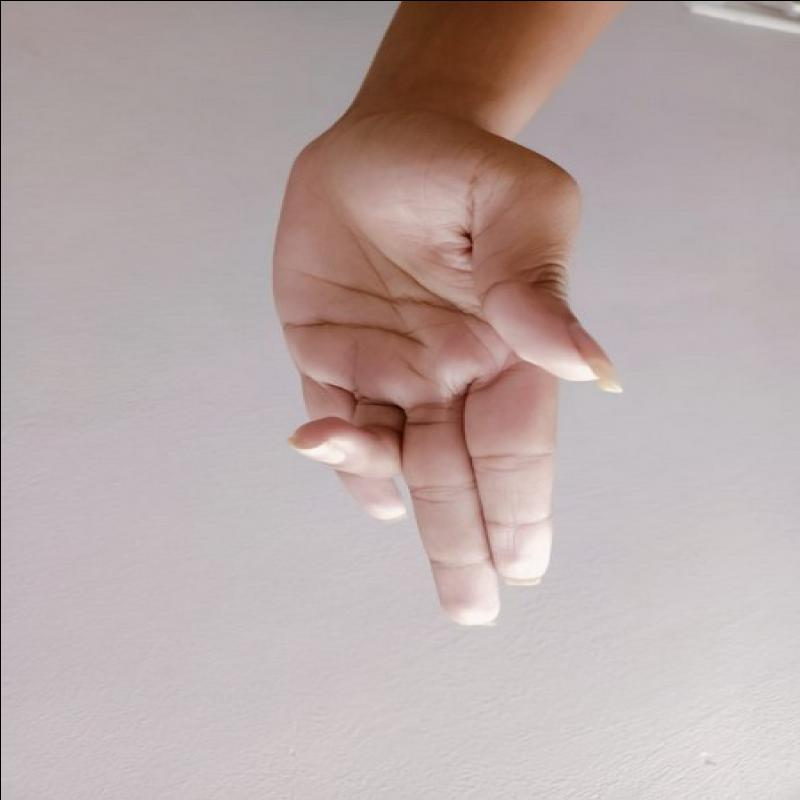Pathaaka: (243, 96, 642, 645)
